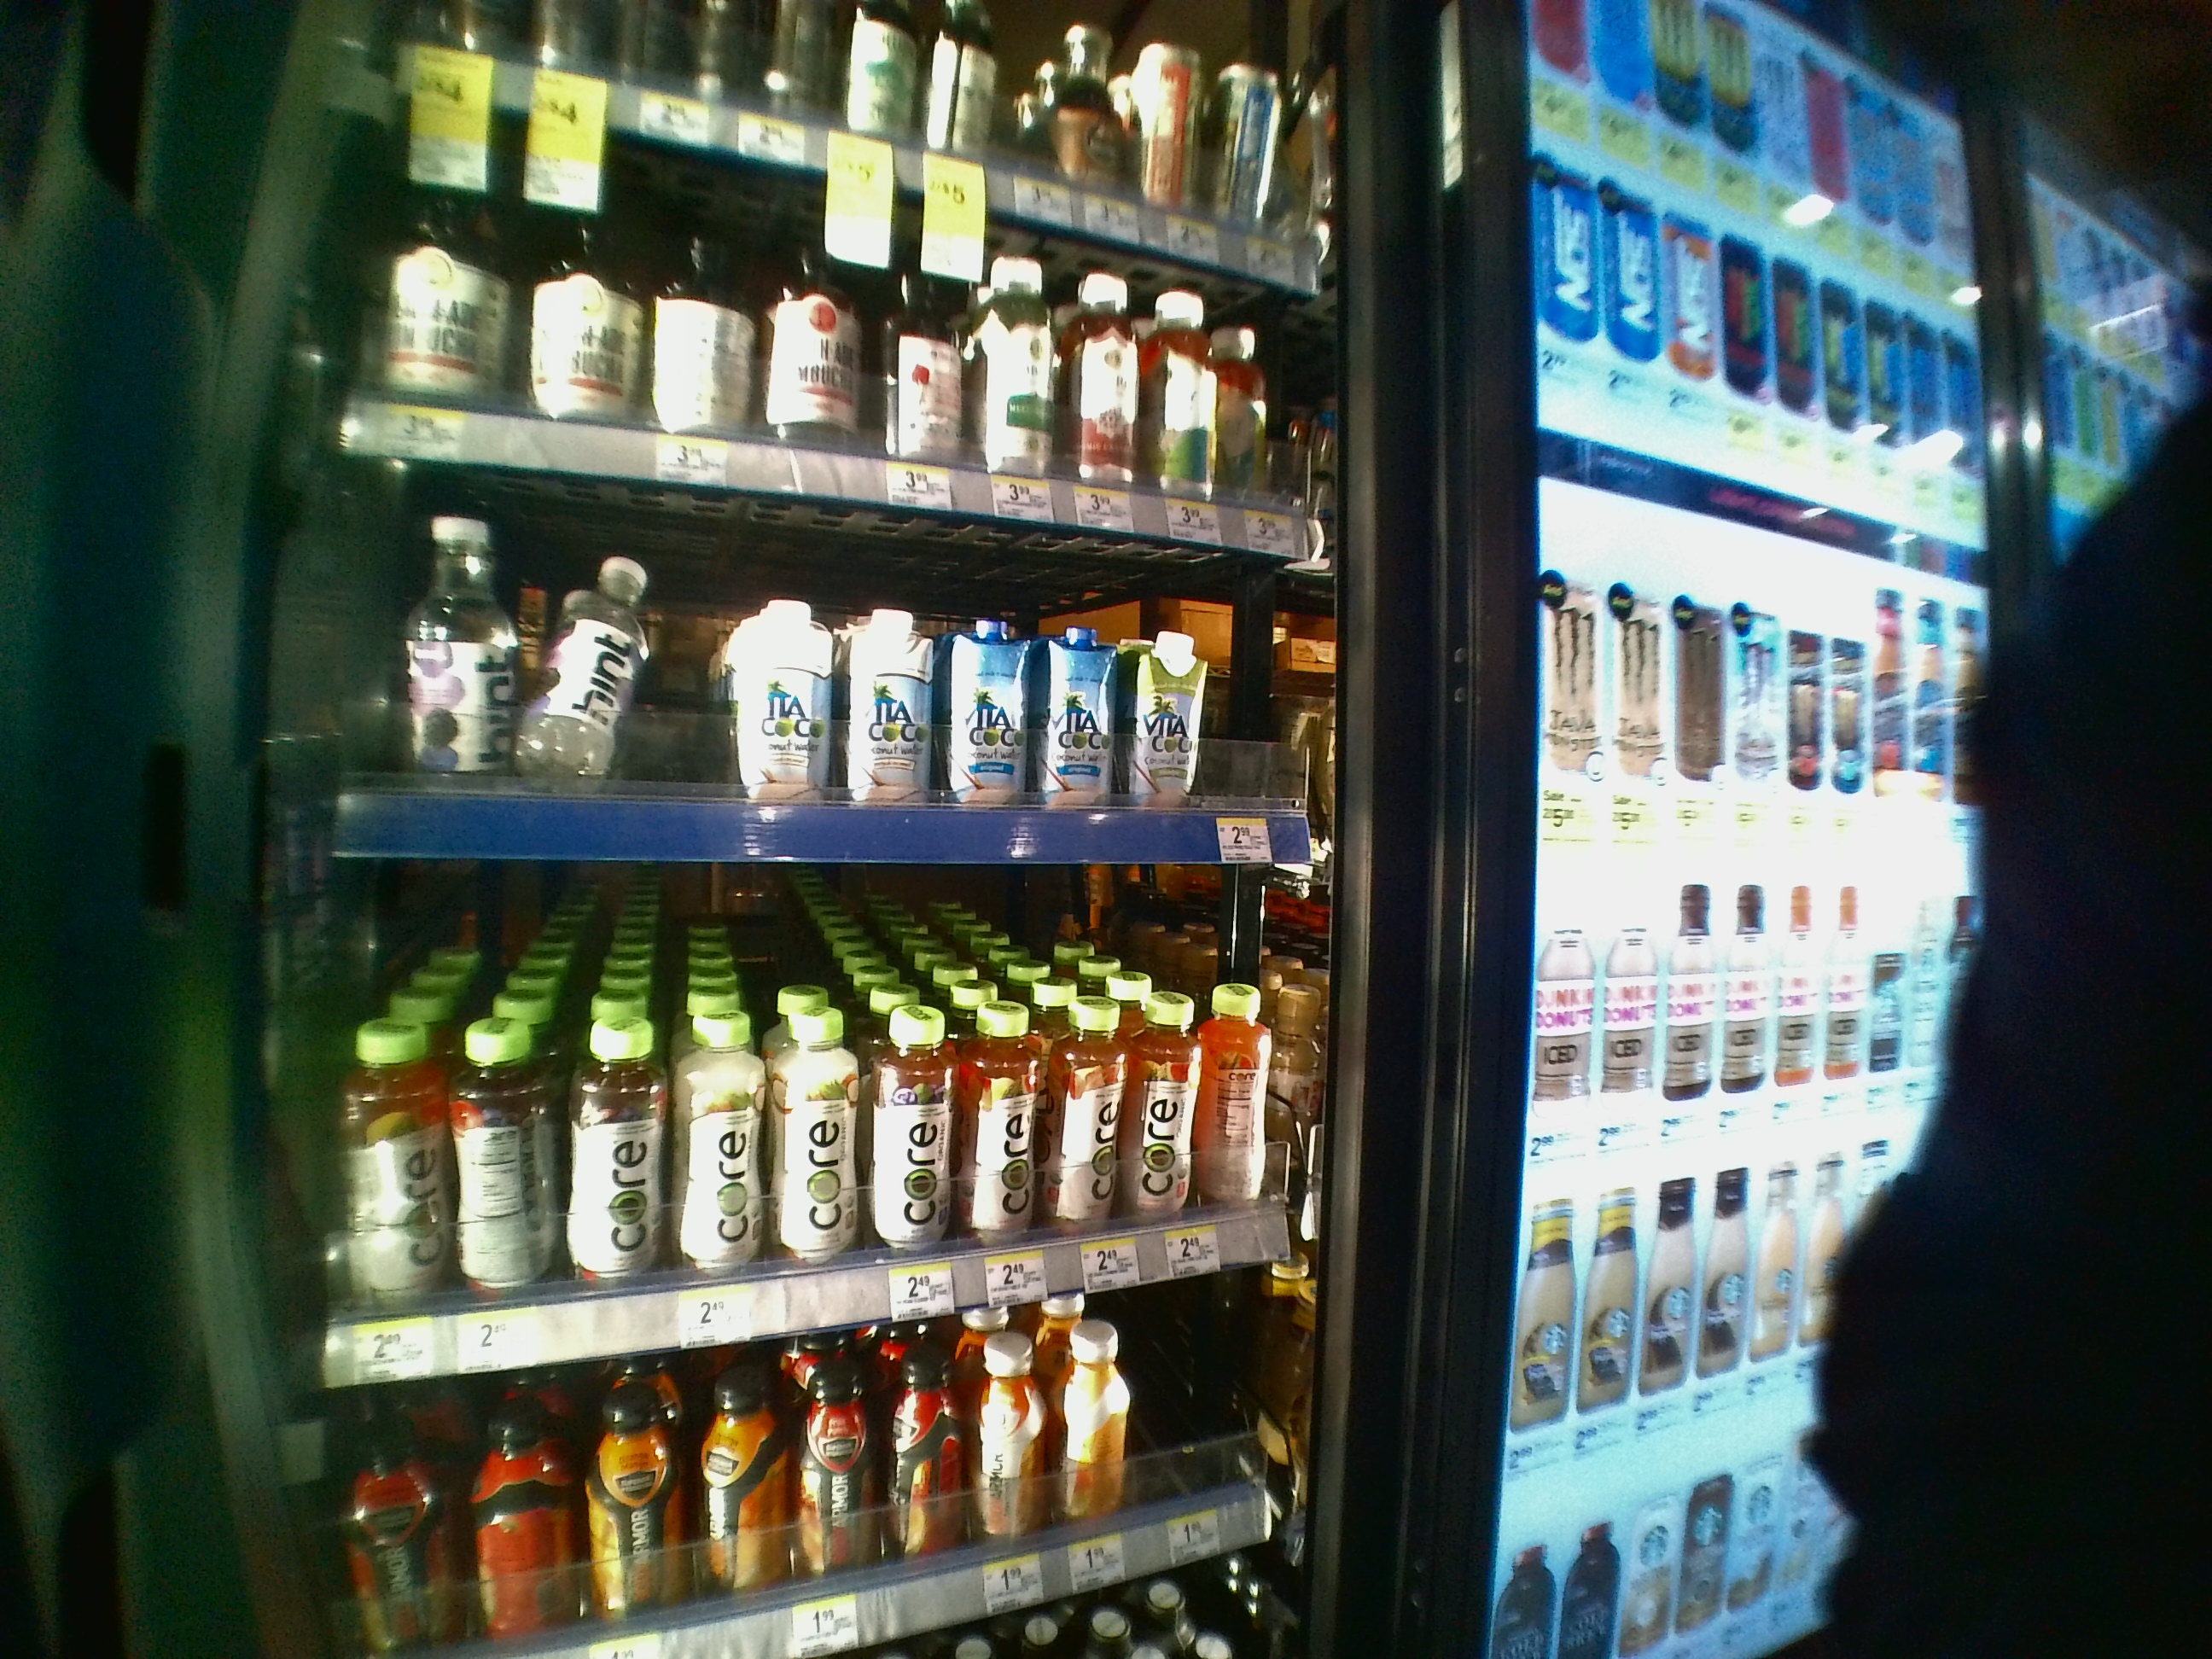shelf: (280, 857, 1339, 1317)
